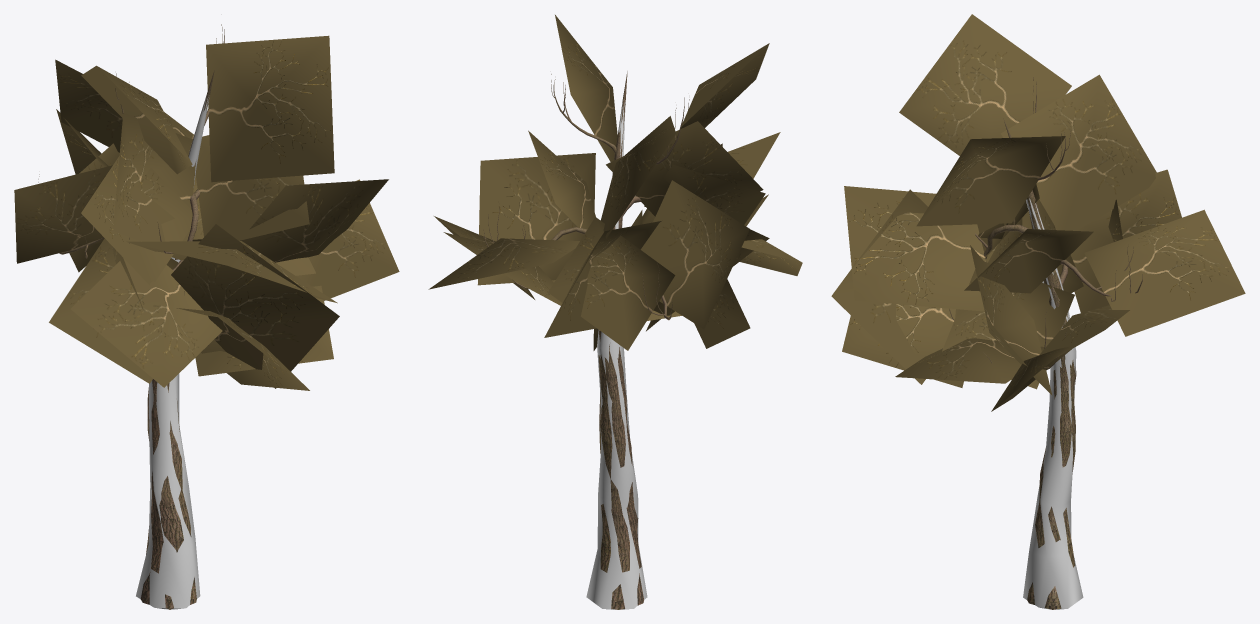
Rendered from tree_1.dae.
The picture shows the model from 3 angles, left to right: view 1: azimuth 30°, elevation 25°; view 2: azimuth 150°, elevation 25°; view 3: azimuth 270°, elevation 25°; orthographic projection. The views are drawn at different scales.
Parts seen in each view (by area): view 1: leaf8d, col_1, branches4d; view 2: leaf8d, branches4d, col_1; view 3: leaf8d, col_1, branches4d.
Boxes of the visible parts, bbox=[...] form: leaf8d: bbox=[14, 35, 399, 390]; col_1: bbox=[136, 94, 209, 609]; branches4d: bbox=[38, 24, 224, 609]; leaf8d: bbox=[428, 15, 802, 350]; branches4d: bbox=[483, 71, 689, 609]; col_1: bbox=[586, 100, 647, 609]; leaf8d: bbox=[831, 14, 1245, 411]; col_1: bbox=[1023, 198, 1083, 609]; branches4d: bbox=[949, 77, 1142, 609].
Size of the model in its own units: 6.55 by 7.59 by 11.01.
Materials: 2 (2 with a texture image).
